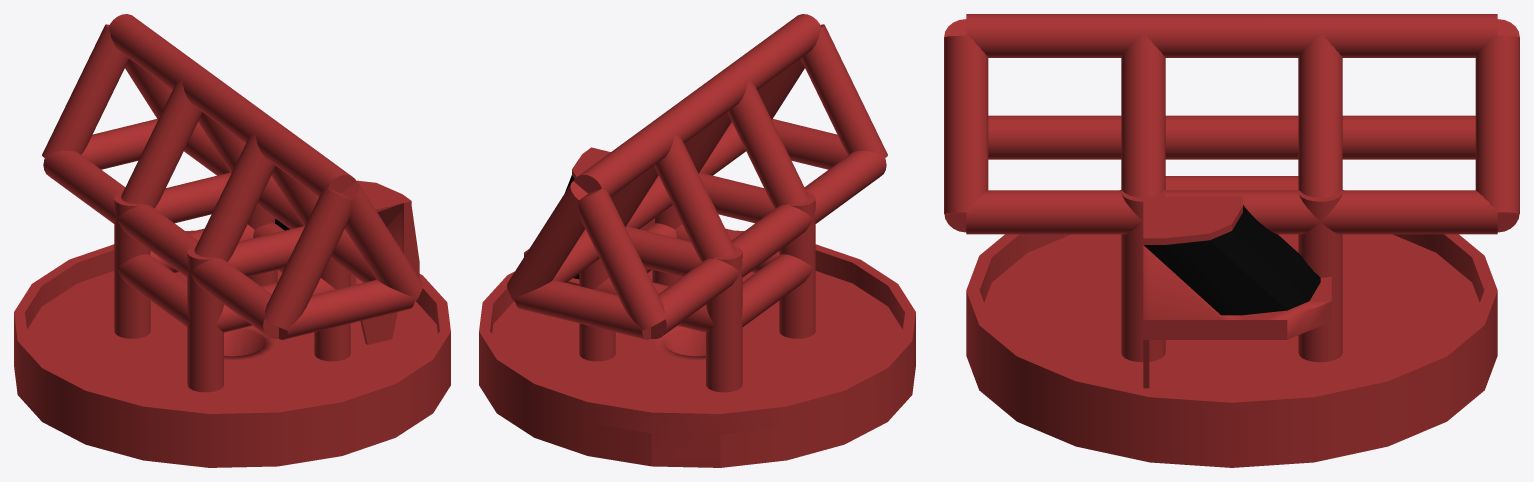
File: Crane 2.fbx
The picture shows the model from 3 angles, left to right: view 1: azimuth 30°, elevation 25°; view 2: azimuth 150°, elevation 25°; view 3: azimuth 270°, elevation 25°; orthographic projection. The views are drawn at different scales.
Parts seen in each view (by area): view 1: group5_pasted__pCylinder7; view 2: group5_pasted__pCylinder7; view 3: group5_pasted__pCylinder7.
Part boxes in pixels (box(x1,y1,x2,y2)): group5_pasted__pCylinder7: box(14, 14, 450, 467); group5_pasted__pCylinder7: box(479, 14, 915, 467); group5_pasted__pCylinder7: box(944, 14, 1519, 467).
Bounding box in the file's own units: 24 × 18.93 × 26.
